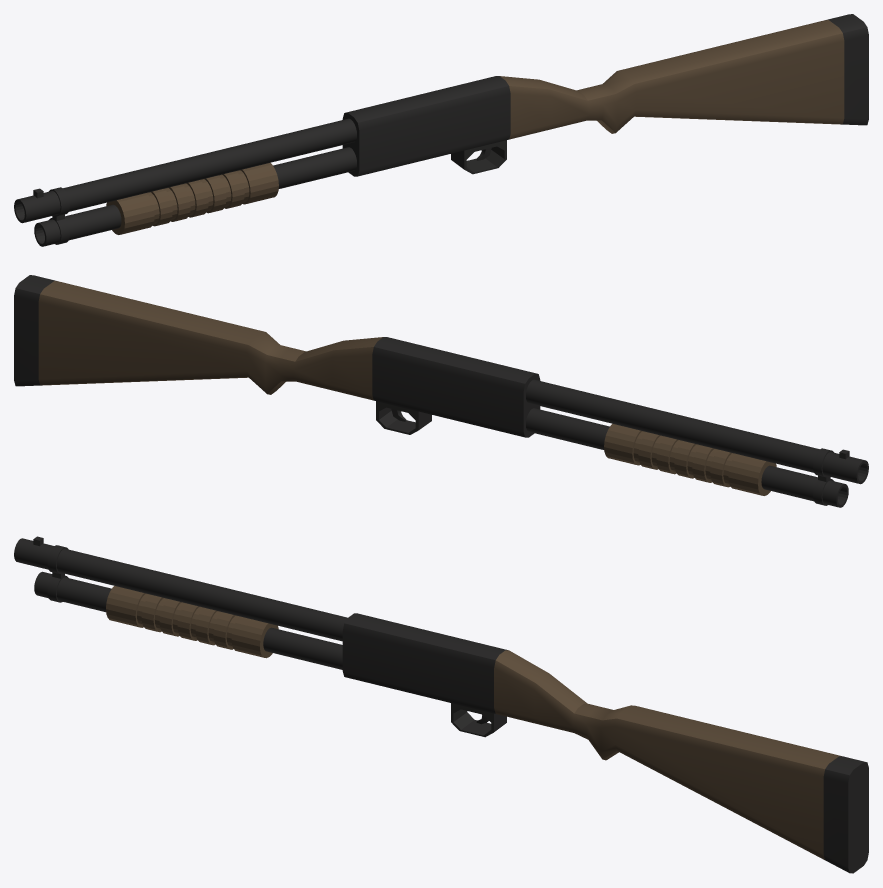
The model's file is shotgun.fbx.
3 renders of one model, top to bottom at view 1: azimuth 30°, elevation 25°; view 2: azimuth 150°, elevation 25°; view 3: azimuth 330°, elevation 25°, orthographic.
Visible parts, largest first — view 1: grip, barrel, forearm, trigger; view 2: grip, barrel, forearm, trigger; view 3: grip, barrel, forearm, trigger.
Part boxes in pixels (left/top/right/bottom): grip: left=342, top=14, right=868, bottom=176; barrel: left=14, top=118, right=356, bottom=246; forearm: left=106, top=162, right=278, bottom=234; trigger: left=451, top=140, right=506, bottom=174; grip: left=14, top=275, right=540, bottom=437; barrel: left=526, top=379, right=868, bottom=507; forearm: left=604, top=423, right=776, bottom=495; trigger: left=376, top=401, right=431, bottom=434; grip: left=342, top=613, right=868, bottom=873; barrel: left=14, top=536, right=347, bottom=669; forearm: left=106, top=586, right=278, bottom=658; trigger: left=451, top=703, right=506, bottom=737.
Bounding box in the file's own units: 15.4 × 2.3 × 0.6615.
